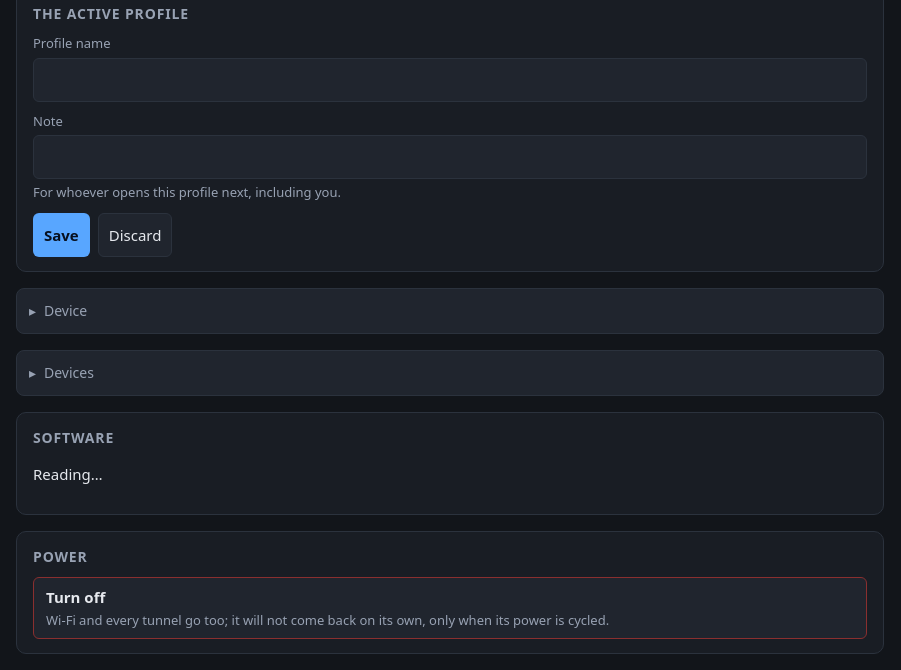
Test: switching the device off › can be stepped back from
(page scrolled)
Click the button "Turn off".
click(450, 608)  # box [33, 577, 867, 639]
(page scrolled)
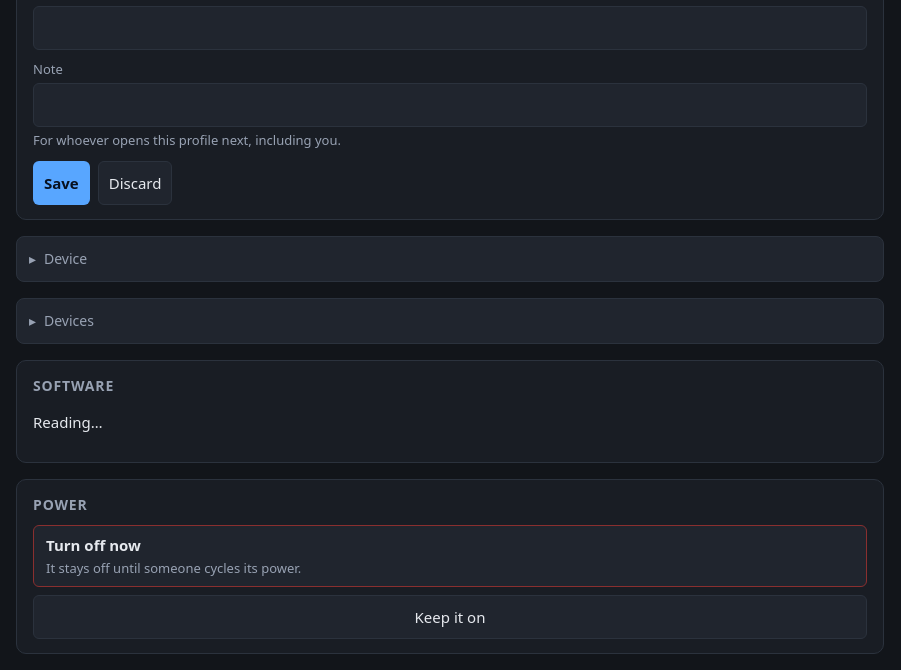
Click the button "Keep it on".
click(450, 617)  # box [33, 595, 867, 639]
(page scrolled)
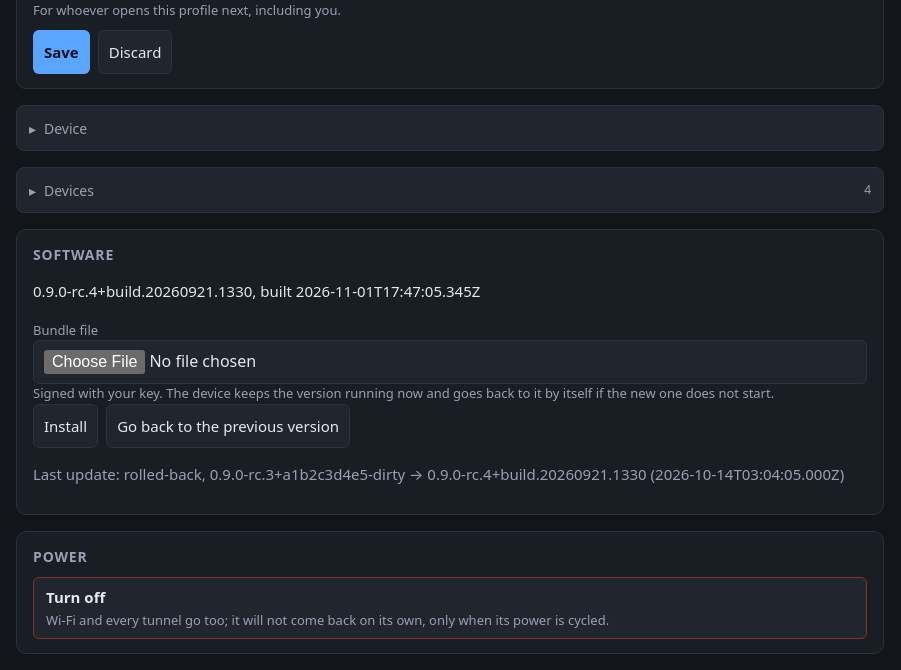
Expected: the button "Turn off" is shown, [33, 577, 867, 639]
Expected: the button "Turn off now" is gone
